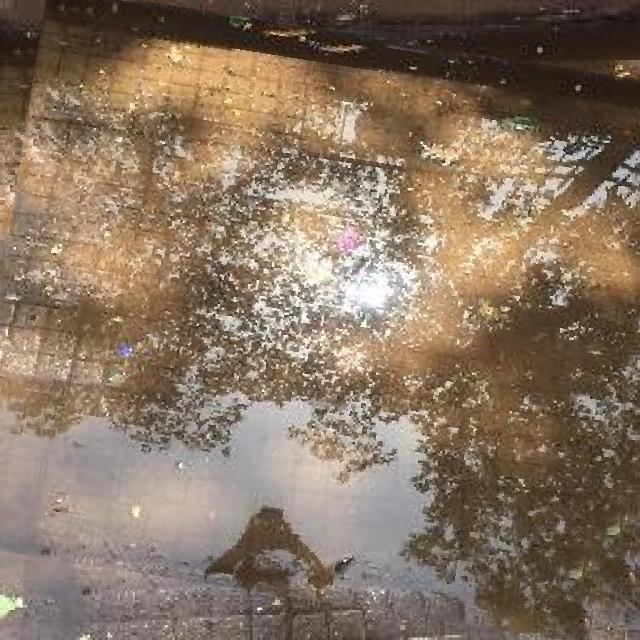puddle: (1, 9, 640, 622)
